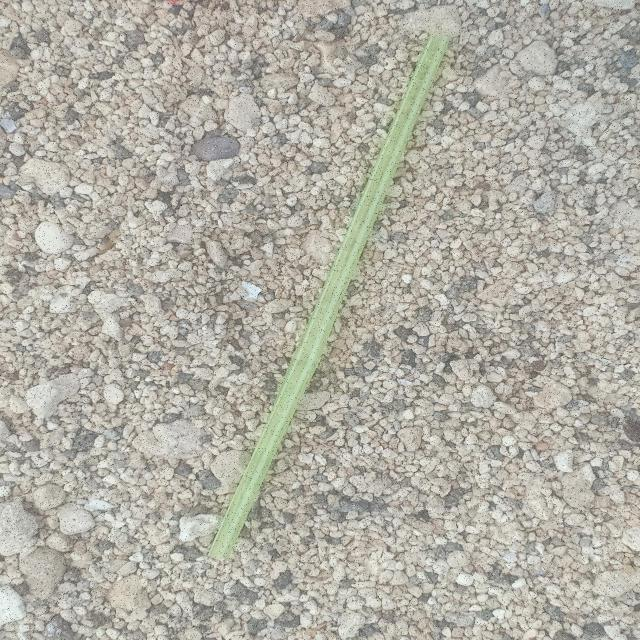plastic_waste: (211, 35, 449, 563)
